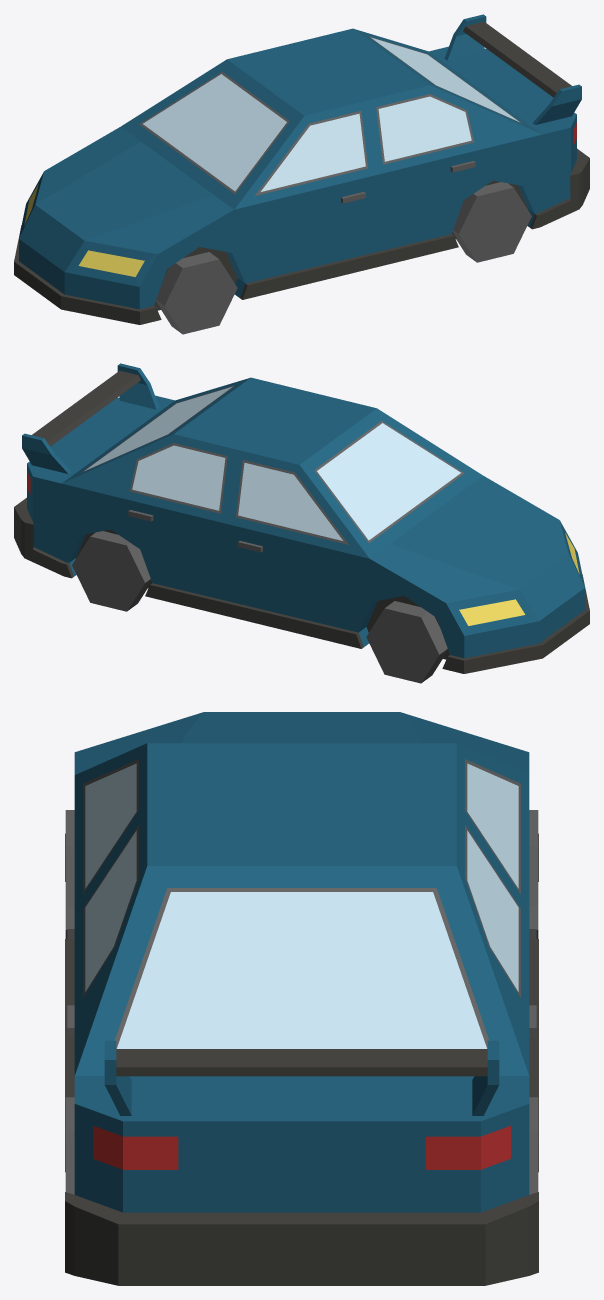
Rendered from Car_1_1.fbx.
3 renders of one model, top to bottom at view 1: azimuth 30°, elevation 25°; view 2: azimuth 150°, elevation 25°; view 3: azimuth 270°, elevation 25°, orthographic. The views are drawn at different scales.
Visible parts, largest first — view 1: Car_1_1; view 2: Car_1_1; view 3: Car_1_1.
Boxes of the visible parts, bbox=[...] form: Car_1_1: bbox=[14, 14, 589, 334]; Car_1_1: bbox=[14, 363, 589, 683]; Car_1_1: bbox=[65, 712, 538, 1285].
Size of the model in its own units: 7.36 by 2.35 by 2.98.
Materials: 1 (1 with a texture image).
